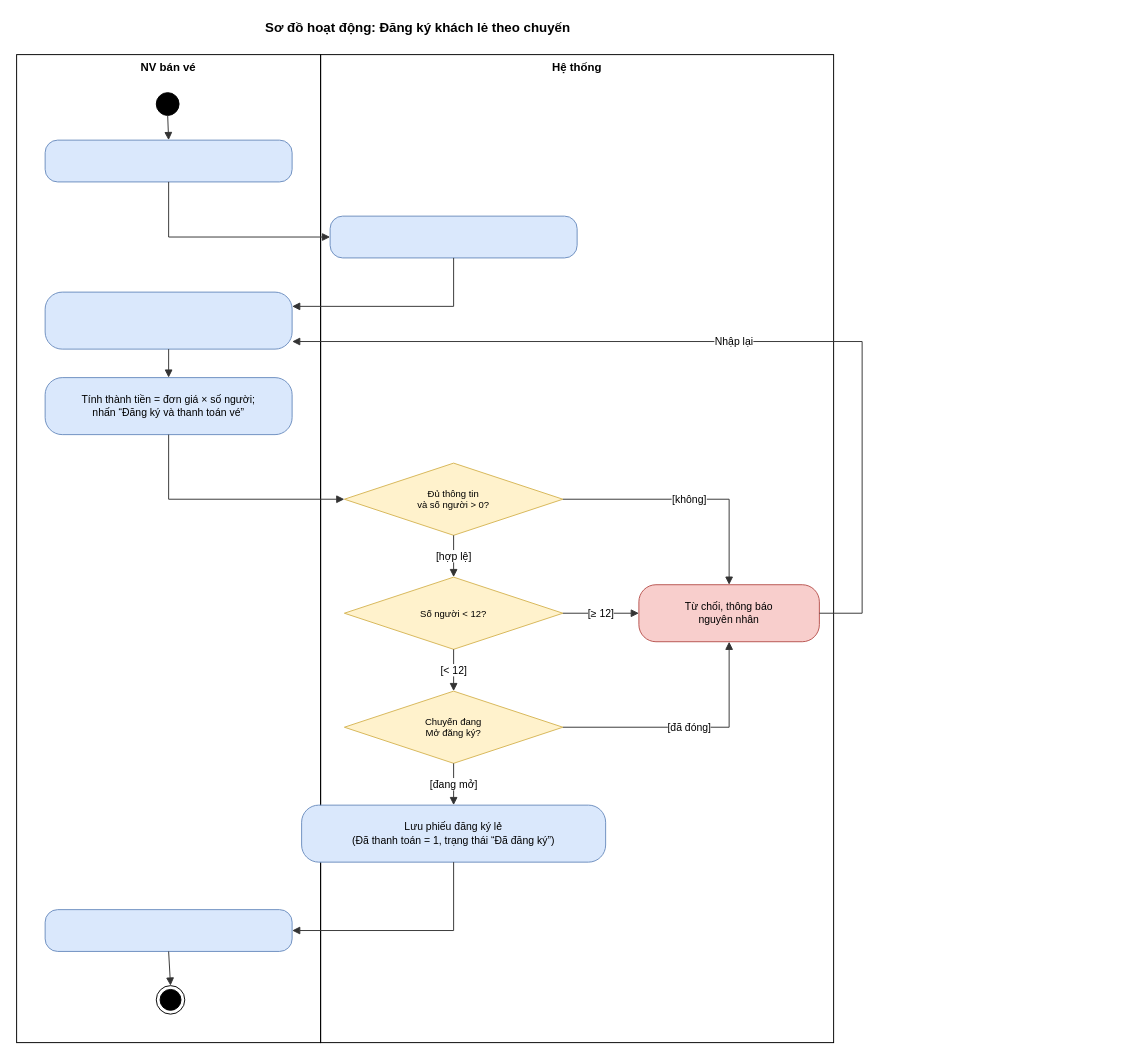
This 1135x1059 diagram has some shape labels left out. Here are the shapes that lost their labels. From the top down, the centre of each, then its label:
the point at 168,160: Mở form Đăng ký khách lẻ
the point at 453,236: Nạp danh sách chuyến “Mở đăng ký” và đơn giá
the point at 168,320: Chọn chuyến, điểm bán vé; nhập tên, điện thoại, số người
the point at 168,930: Thông báo thành công, nạp lại danh sách
